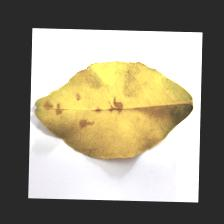canker: (39, 92, 136, 133)
